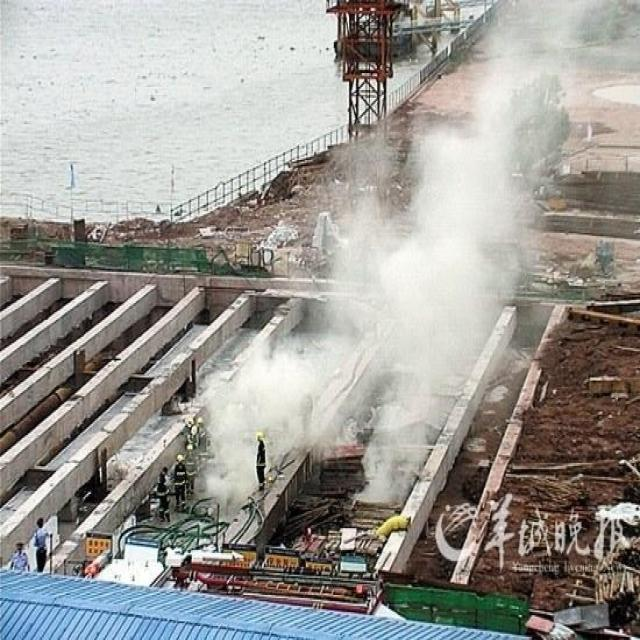Smoke: (200, 1, 640, 524)
